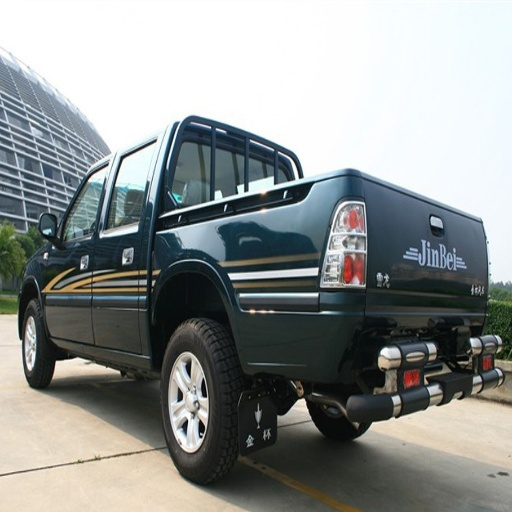back_left_light: (323, 205, 363, 283)
trunk: (95, 211, 328, 371), (324, 202, 486, 334)
